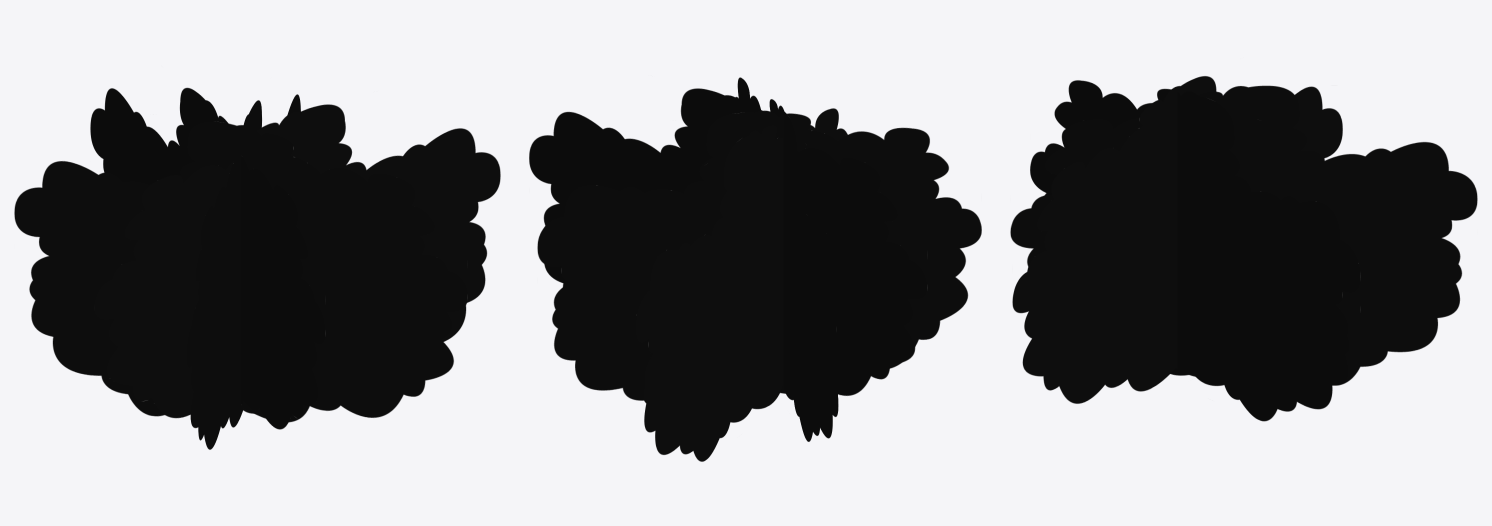
File: Bush.glb
3 renders of one model, left to right at view 1: azimuth 30°, elevation 25°; view 2: azimuth 150°, elevation 25°; view 3: azimuth 270°, elevation 25°, orthographic. The views are drawn at different scales.
Parts seen in each view (by area): view 1: Bush; view 2: Bush; view 3: Bush.
Boxes of the visible parts, left/top/right/bottom form: Bush: left=14, top=87, right=500, bottom=449; Bush: left=529, top=77, right=981, bottom=461; Bush: left=1010, top=76, right=1477, bottom=421.
Size of the model in its own units: 17.25 by 12.24 by 17.25.
Materials: 1 (1 with a texture image).
